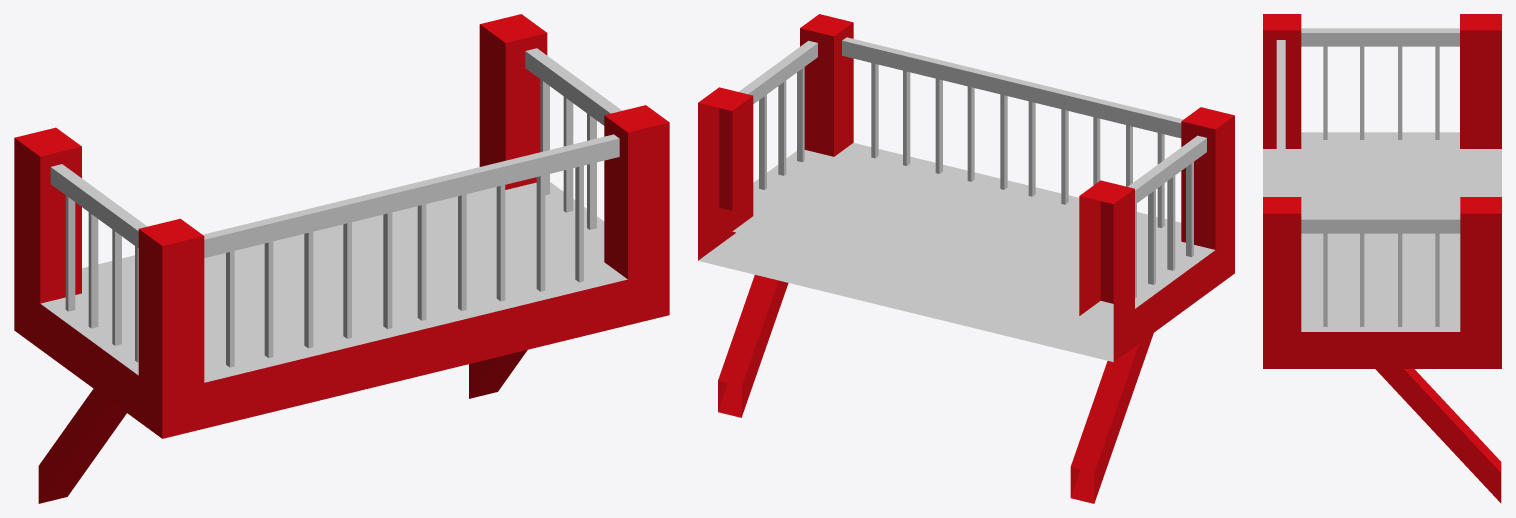
File: arch_balcony.glb
3 views of the same model, side by side, from view 1: azimuth 30°, elevation 25°; view 2: azimuth 150°, elevation 25°; view 3: azimuth 270°, elevation 25° (orthographic). The views are drawn at different scales.
Visible parts, largest first — view 1: mesh; view 2: mesh; view 3: mesh.
Part boxes in pixels (<box>): mesh: <box>14,14,669,503</box>; mesh: <box>698,14,1234,503</box>; mesh: <box>1263,14,1501,503</box>.
Size of the model in its own units: 5.92 by 4.15 by 2.99.
